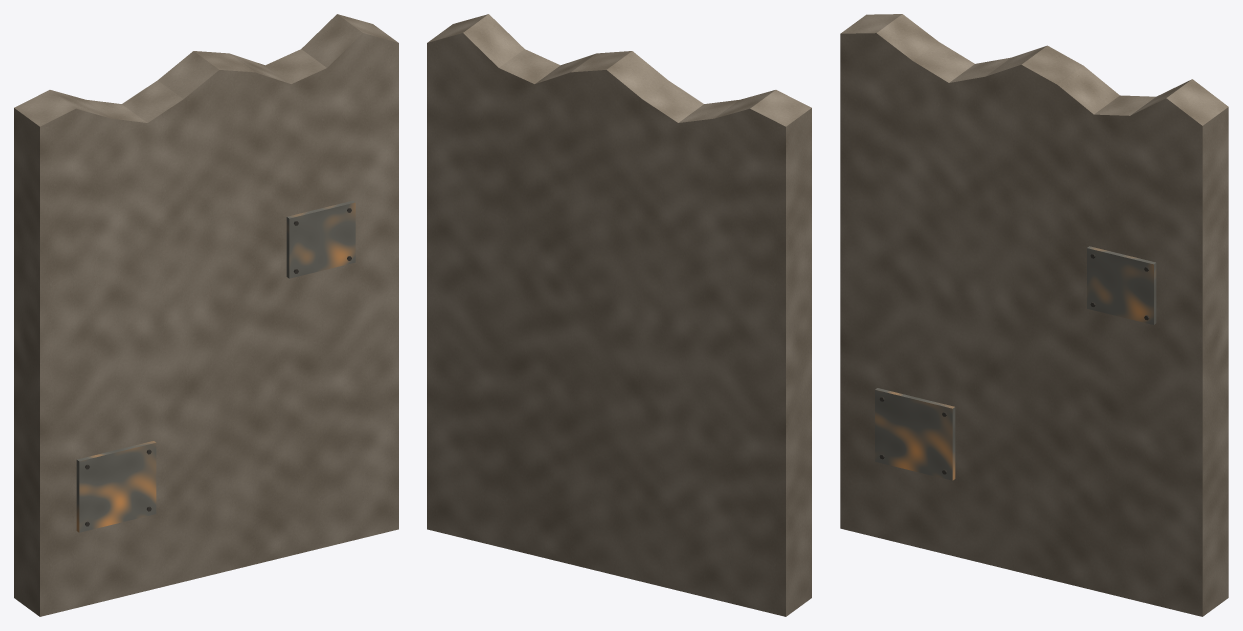
Rendered from wall_adobe_grey.glb.
3 views of the same model, side by side, from view 1: azimuth 30°, elevation 25°; view 2: azimuth 150°, elevation 25°; view 3: azimuth 330°, elevation 25° (orthographic).
Size of the model in its own units: 2 by 2.69 by 0.283.
3 materials, 3 textured.
